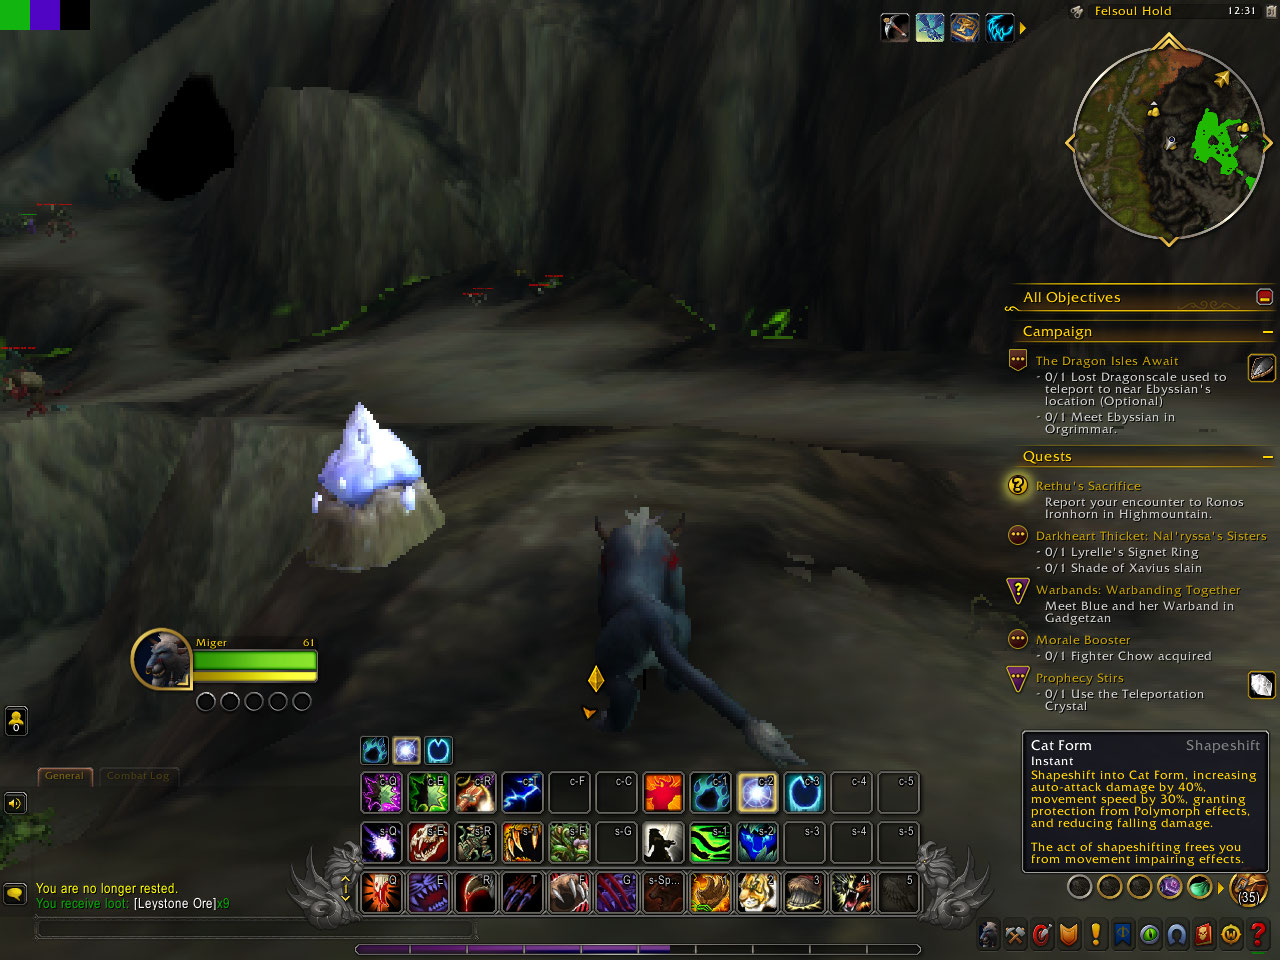ore: (302, 398, 444, 572)
